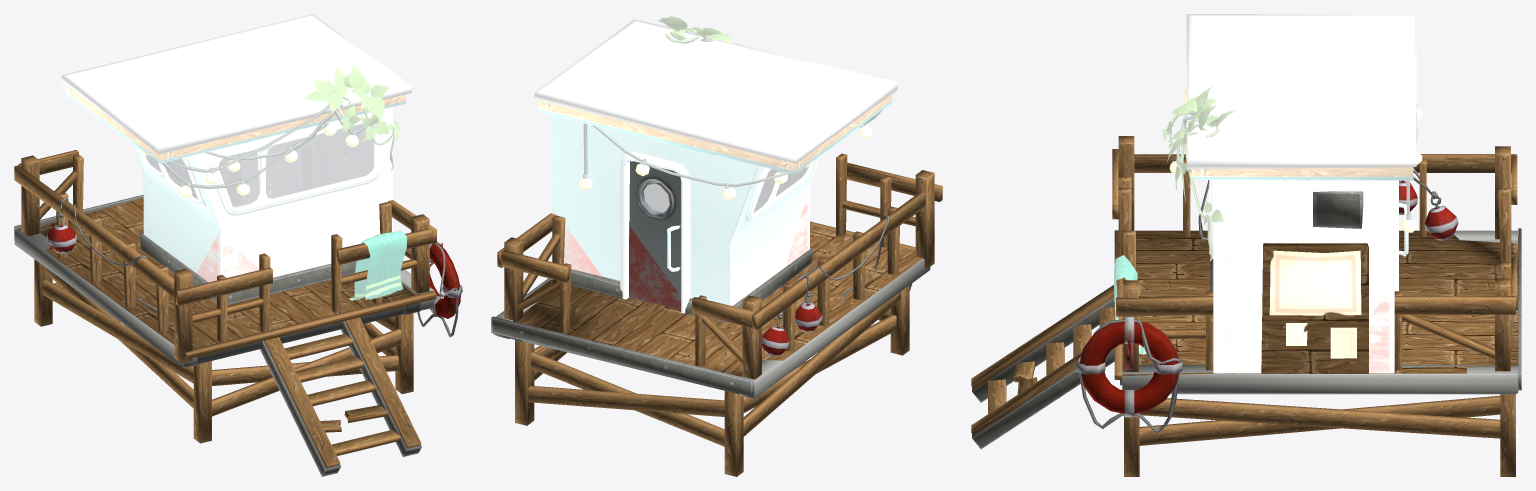
The model's file is lifeguard-tower.zfix-v1.lod0.glb.
The picture shows the model from 3 angles, left to right: view 1: azimuth 30°, elevation 25°; view 2: azimuth 150°, elevation 25°; view 3: azimuth 270°, elevation 25°; orthographic projection. The views are drawn at different scales.
Parts seen in each view (by area): view 1: Object_2, Object_3; view 2: Object_3, Object_2; view 3: Object_3, Object_2.
Boxes of the visible parts, left/top/right/bottom form: Object_2: left=61, top=14, right=411, bottom=300; Object_3: left=14, top=150, right=462, bottom=476; Object_3: left=491, top=153, right=942, bottom=476; Object_2: left=534, top=15, right=897, bottom=313; Object_3: left=971, top=136, right=1521, bottom=476; Object_2: left=1114, top=14, right=1422, bottom=373.
Bounding box in the file's own units: 4.35 × 4.6 × 6.29.
2 materials, 2 textured.
